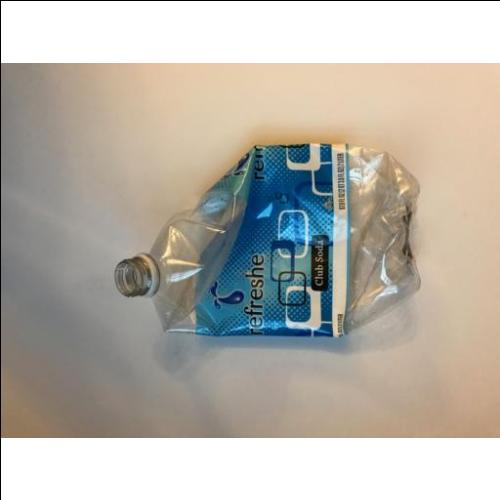plastic: (114, 142, 423, 339)
